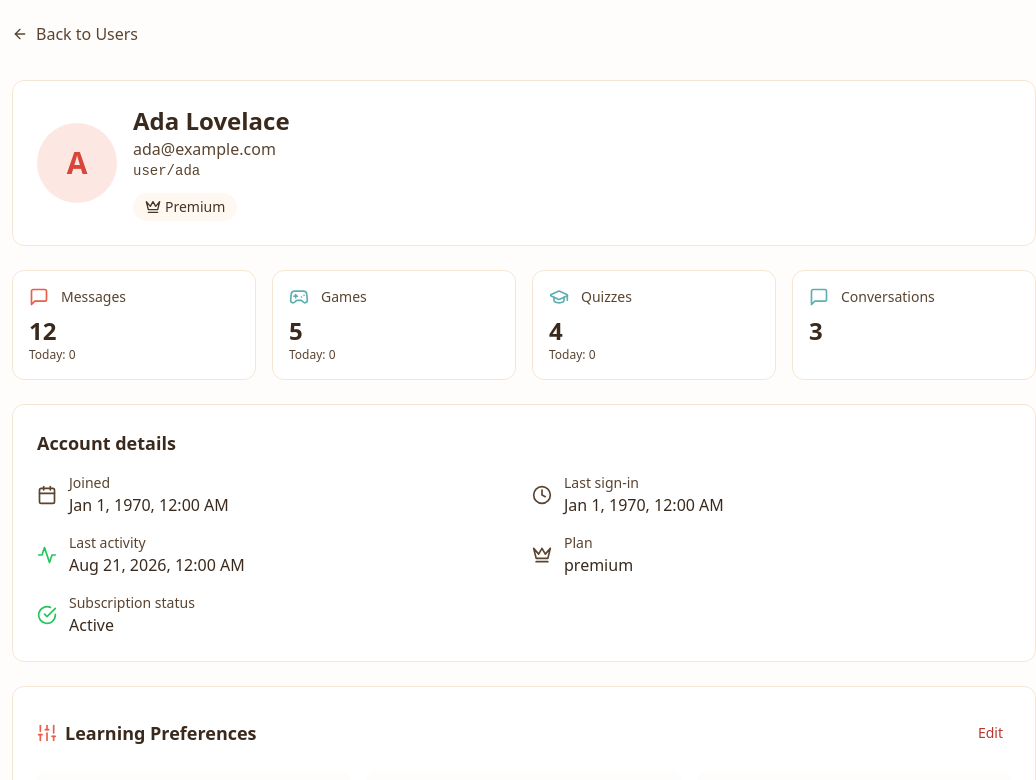
Test: restorable admin user navigation › returns from detail to the validated list context
This screenshot has width=1036, height=780.
Click the link "Back to Users": click(75, 34) [12, 23, 138, 45]
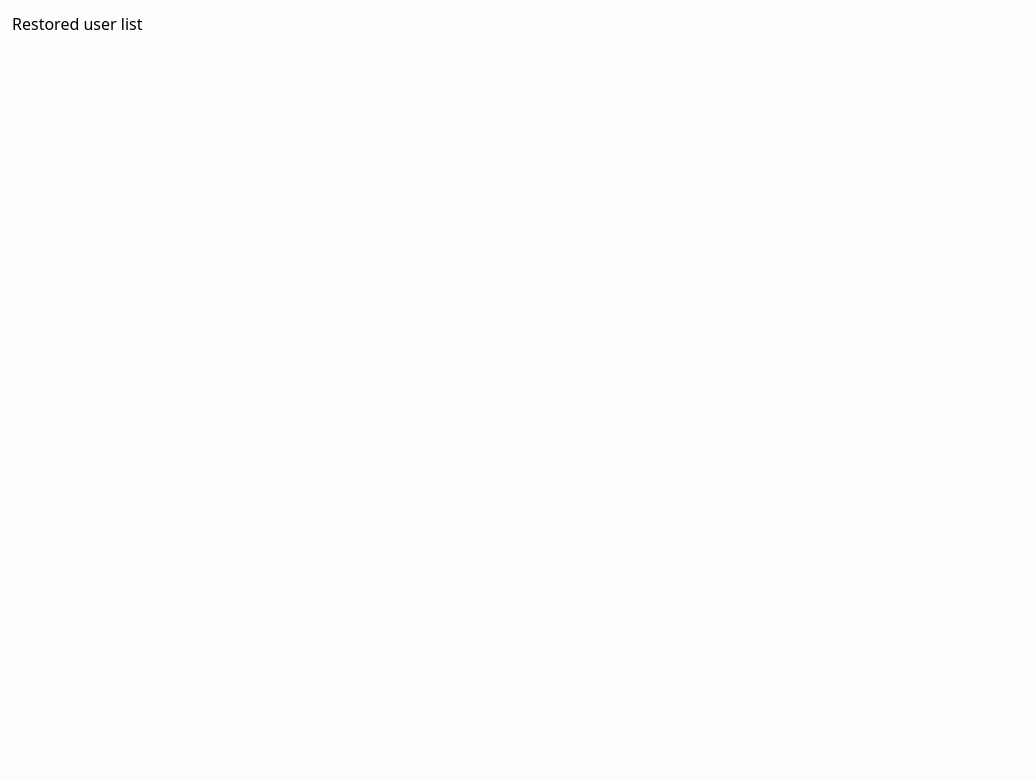
Result: the text "Restored user list" is shown at [12, 13, 142, 35]
